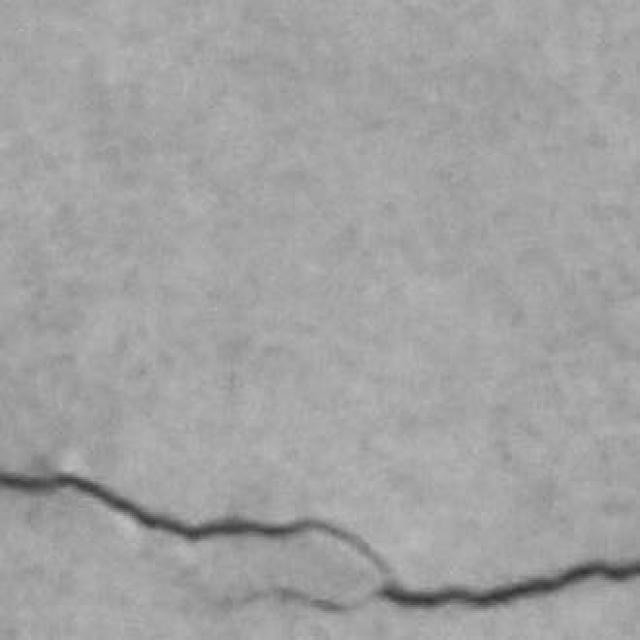crack: (0, 472, 639, 612)
